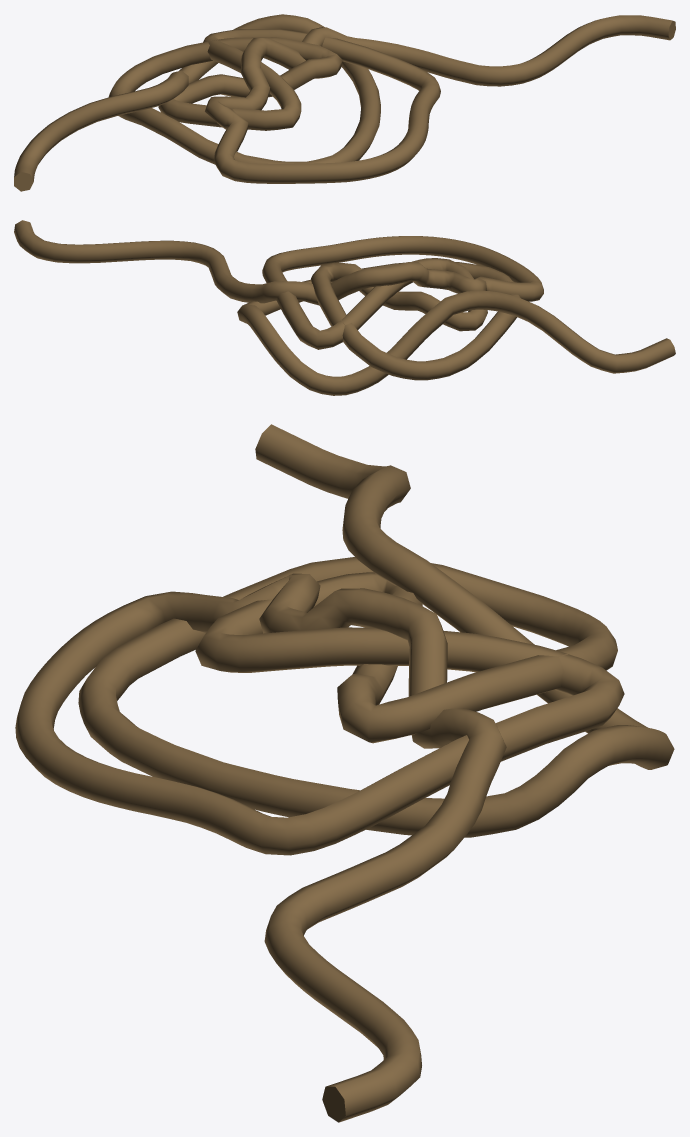
The model's file is RopeOnTheFloor.fbx.
3 views of the same model, one above another, from view 1: azimuth 30°, elevation 25°; view 2: azimuth 150°, elevation 25°; view 3: azimuth 270°, elevation 25° (orthographic). The views are drawn at different scales.
Visible parts, largest first — view 1: BezierCurve; view 2: BezierCurve; view 3: BezierCurve.
Boxes of the visible parts, bbox=[...] form: BezierCurve: bbox=[14, 14, 675, 191]; BezierCurve: bbox=[14, 220, 675, 395]; BezierCurve: bbox=[15, 424, 674, 1122].
Size of the model in its own units: 355 by 43.48 by 157.
